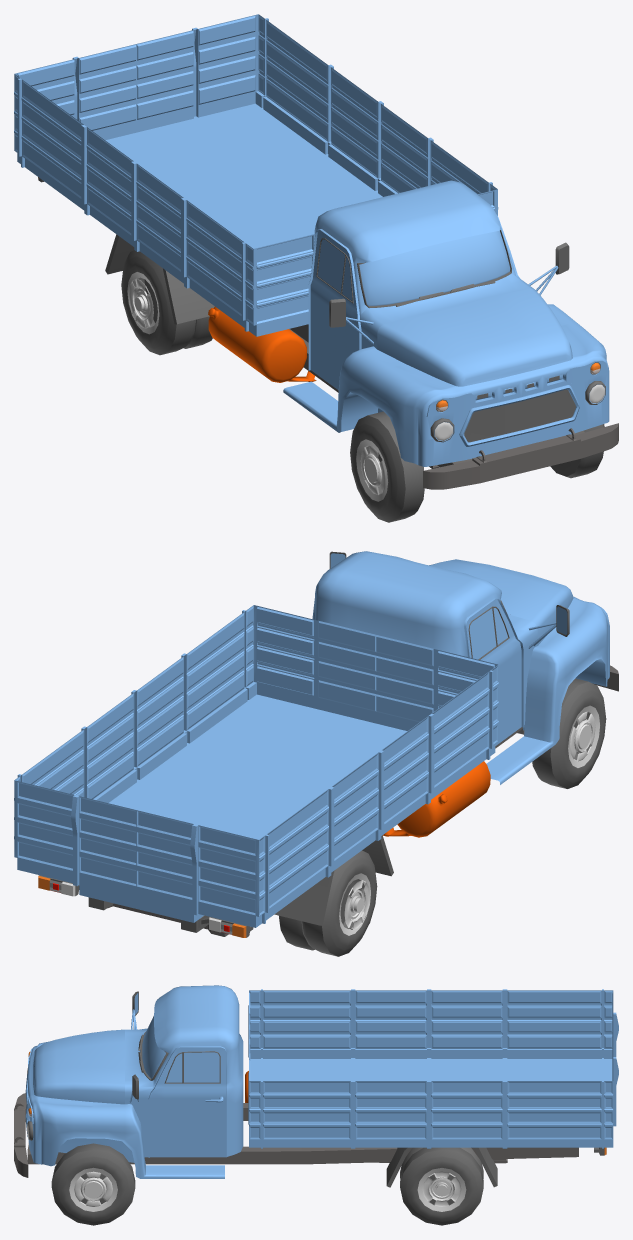
The model's file is car.glb.
3 views of the same model, one above another, from view 1: azimuth 30°, elevation 25°; view 2: azimuth 150°, elevation 25°; view 3: azimuth 270°, elevation 25° (orthographic). The views are drawn at different scales.
Parts seen in each view (by area): view 1: Plane.022_Plane.026; view 2: Plane.022_Plane.026; view 3: Plane.022_Plane.026.
Part boxes in pixels (bbox=[...]): Plane.022_Plane.026: bbox=[14, 14, 618, 522]; Plane.022_Plane.026: bbox=[14, 551, 618, 956]; Plane.022_Plane.026: bbox=[14, 985, 618, 1225].
Bounding box in the file's own units: 1.1 × 1 × 3.04.
